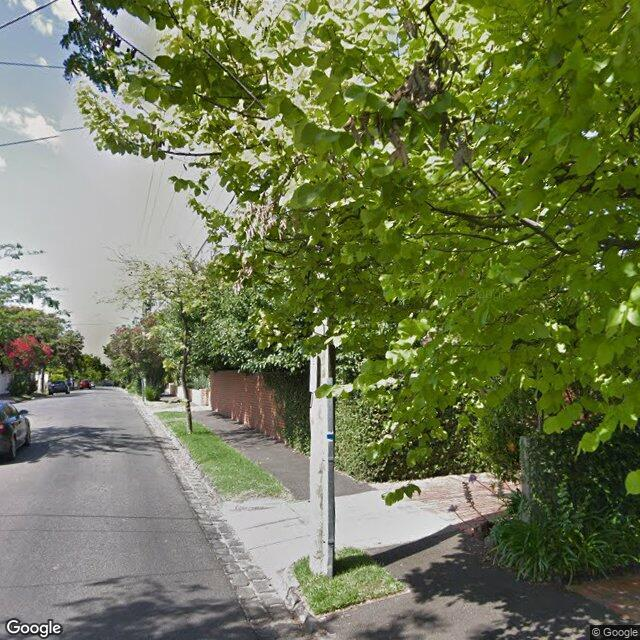timber-pole: (308, 290, 338, 578)
